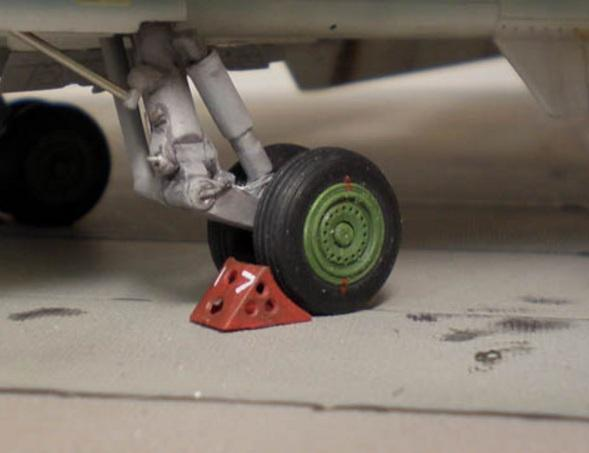chock: (188, 255, 314, 332)
wheel: (254, 146, 404, 316), (4, 100, 113, 231)
